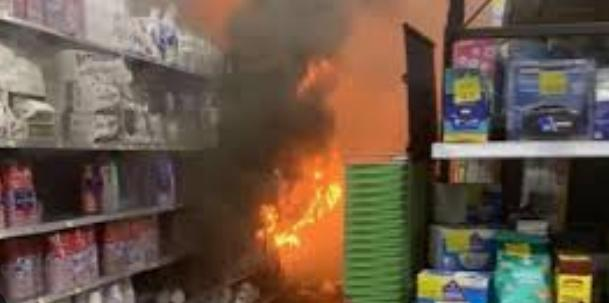fire: (193, 96, 362, 254)
